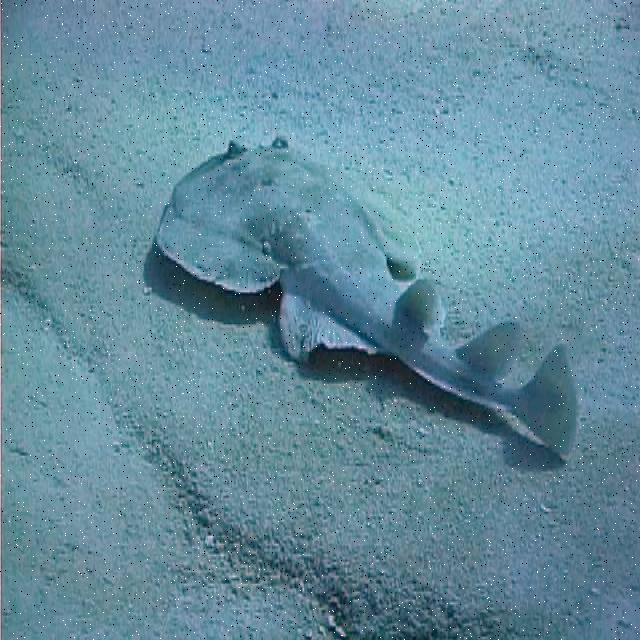fish: (157, 138, 578, 461)
